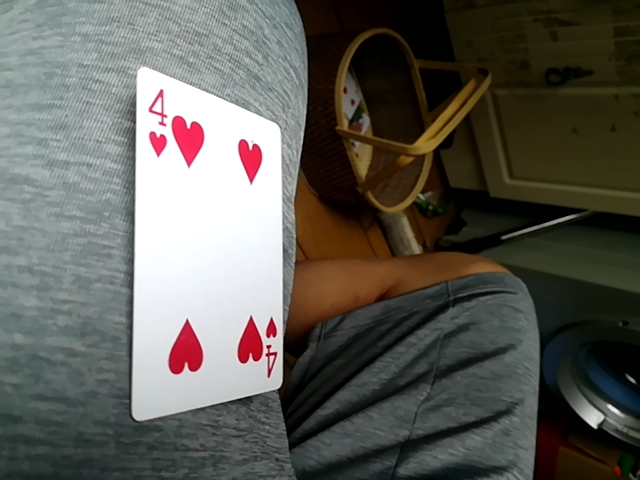hx 4: (126, 66, 284, 420)
